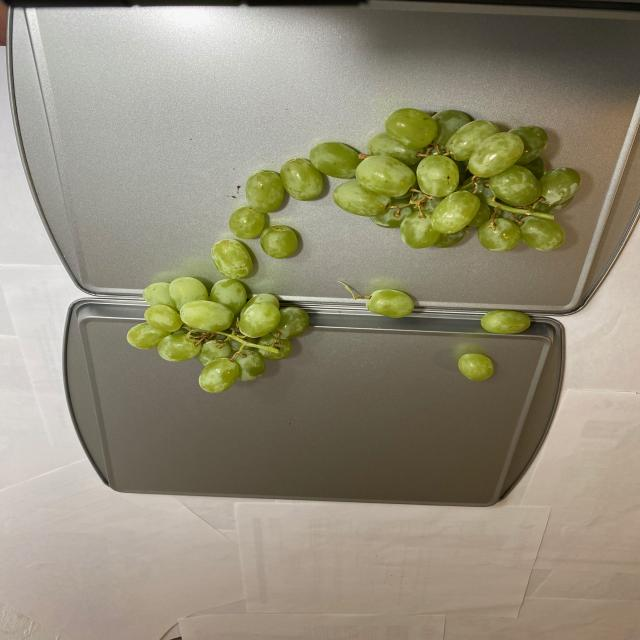grapes: (123, 112, 580, 394)
